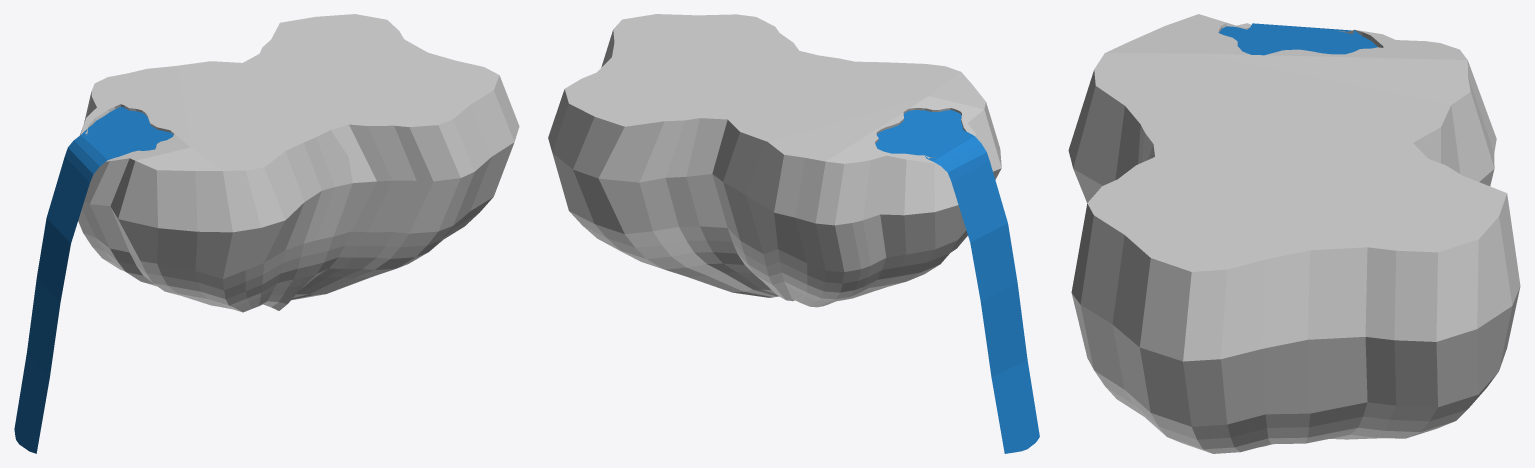
The model's file is SlimeIslandWaterfall2.fbx.
3 renders of one model, left to right at view 1: azimuth 30°, elevation 25°; view 2: azimuth 150°, elevation 25°; view 3: azimuth 270°, elevation 25°, orthographic. The views are drawn at different scales.
Parts seen in each view (by area): view 1: Cube, Cube.001; view 2: Cube, Cube.001; view 3: Cube, Cube.001.
Boxes of the visible parts, left/top/right/bottom form: Cube: left=78, top=14, right=519, bottom=312; Cube.001: left=14, top=106, right=173, bottom=453; Cube: left=548, top=14, right=1001, bottom=307; Cube.001: left=875, top=110, right=1039, bottom=453; Cube: left=1068, top=14, right=1520, bottom=453; Cube.001: left=1219, top=23, right=1377, bottom=55.
Size of the model in its own units: 1093 by 665 by 642.
